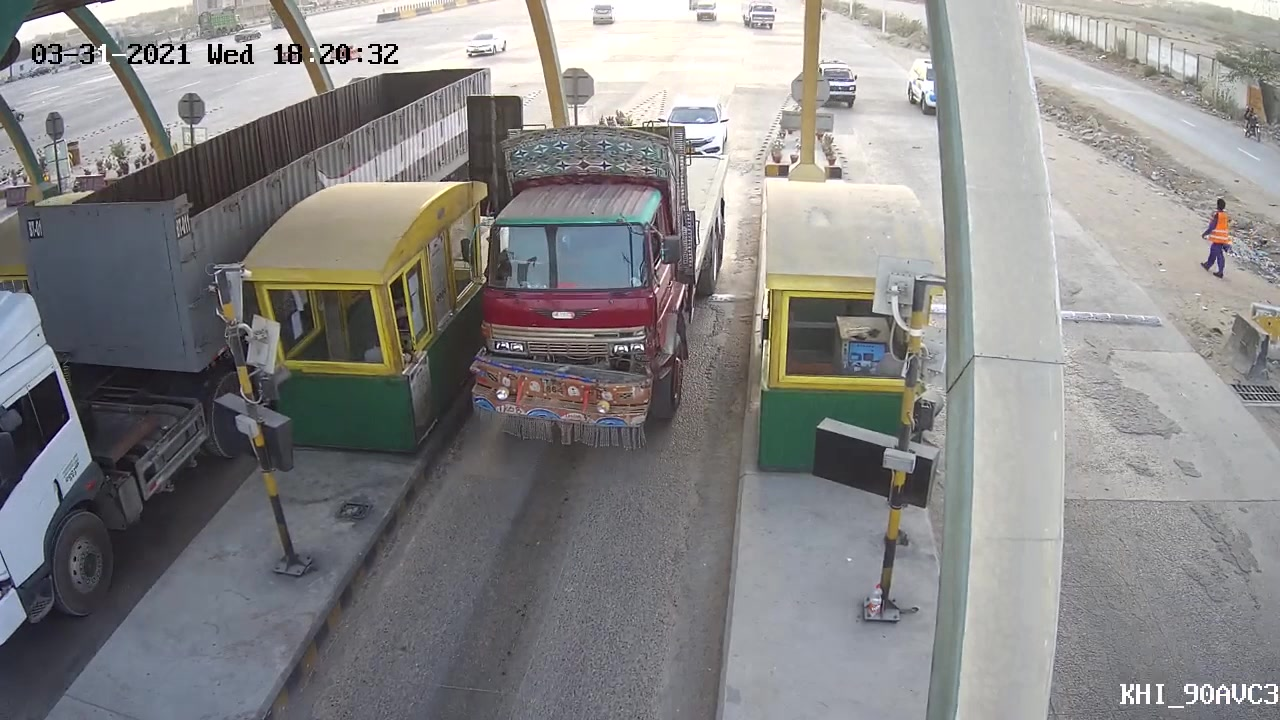F6: (460, 122, 731, 453)
